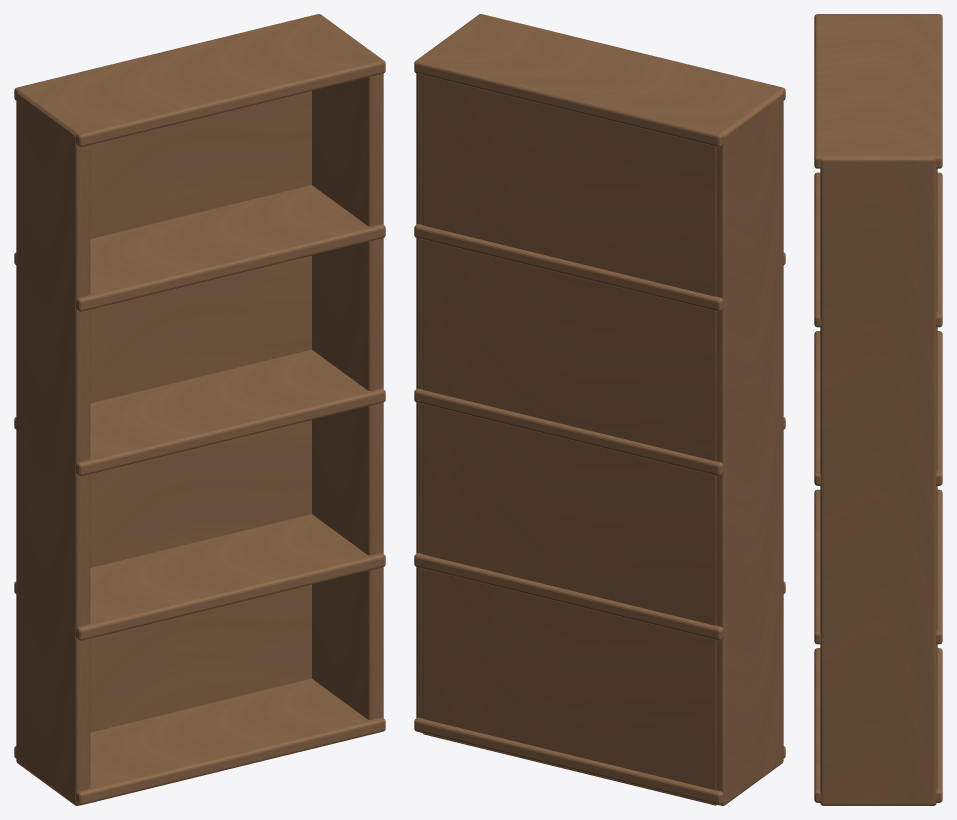
File: bookshelf-1.glb
The picture shows the model from 3 angles, left to right: view 1: azimuth 30°, elevation 25°; view 2: azimuth 150°, elevation 25°; view 3: azimuth 270°, elevation 25°; orthographic projection. The views are drawn at different scales.
Visible parts, largest first — view 1: Back panel, Upright, Upright.001, Shelf.004, Shelf.001, Shelf.003, Shelf, Shelf.002; view 2: Back panel, Upright, Shelf.004, Shelf.001, Shelf.003, Shelf, Shelf.002, Upright.001; view 3: Upright.001, Shelf.004, Shelf.003, Shelf.001, Shelf, Shelf.002, Back panel.
Boxes of the visible parts, box(x1,y1,x2,y2) form: Back panel: box(90, 91, 311, 732); Upright: box(16, 92, 90, 805); Upright.001: box(312, 73, 383, 719); Shelf.004: box(14, 14, 385, 147); Shelf.001: box(14, 514, 385, 640); Shelf.003: box(14, 185, 385, 311); Shelf: box(14, 678, 385, 805); Shelf.002: box(14, 349, 385, 476); Back panel: box(423, 75, 716, 805); Upright: box(716, 92, 783, 805); Shelf.004: box(414, 14, 785, 147); Shelf.001: box(414, 553, 785, 640); Shelf.003: box(414, 224, 785, 311); Shelf: box(414, 717, 785, 805); Shelf.002: box(414, 388, 785, 476); Upright.001: box(416, 73, 422, 718); Upright.001: box(820, 158, 936, 805); Shelf.004: box(814, 14, 942, 168); Shelf.003: box(814, 172, 942, 327); Shelf.001: box(814, 489, 942, 644); Shelf: box(814, 648, 942, 802); Shelf.002: box(814, 331, 942, 485); Back panel: box(936, 168, 937, 788).
Size of the model in its own units: 0.885 by 1.84 by 0.33.
1 material, 1 textured.
